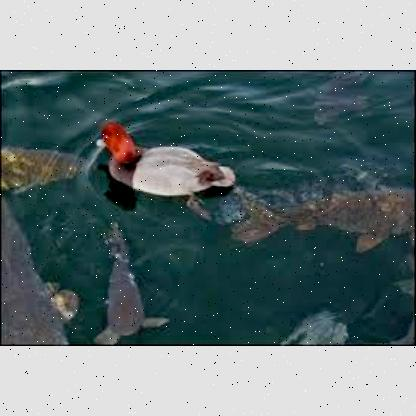ikan-mas: (237, 181, 415, 247)
